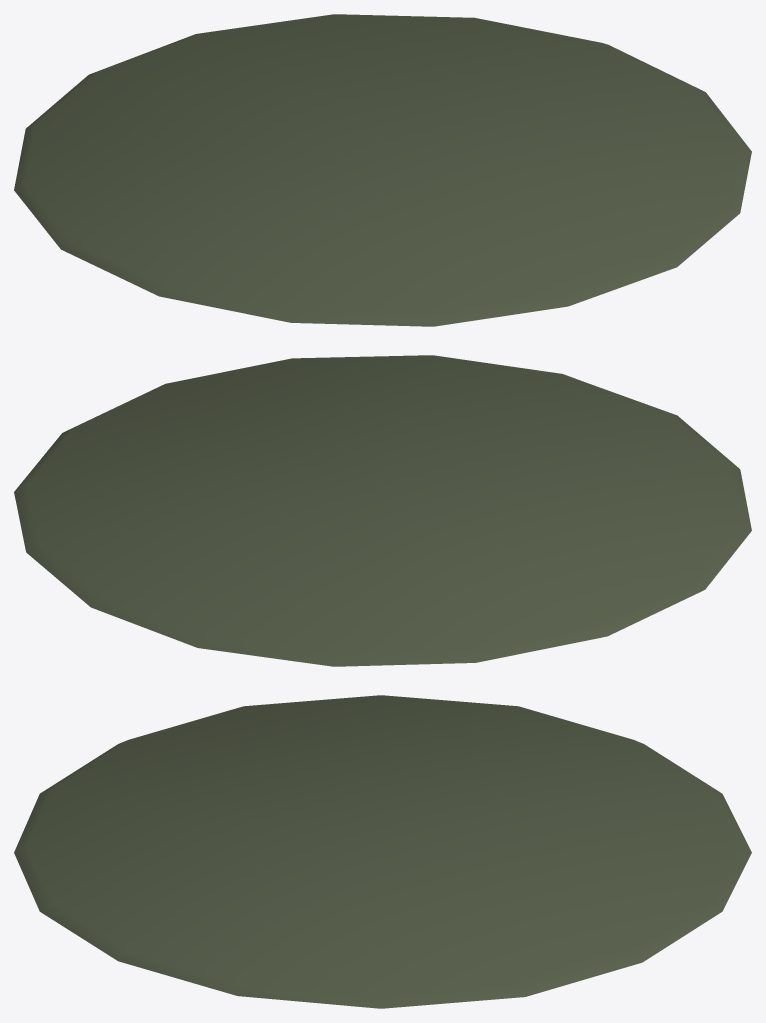
Rendered from brick_dragon.fbx.
The picture shows the model from 3 angles, top to bottom: view 1: azimuth 30°, elevation 25°; view 2: azimuth 150°, elevation 25°; view 3: azimuth 270°, elevation 25°; orthographic projection.
Visible parts, largest first — view 1: brick_dragon; view 2: brick_dragon; view 3: brick_dragon.
Boxes of the visible parts, x1,y1,x2,y2 form: brick_dragon: (14, 14, 751, 326); brick_dragon: (14, 355, 751, 666); brick_dragon: (14, 695, 751, 1008).
Size of the model in its own units: 400 by 4 by 400.
